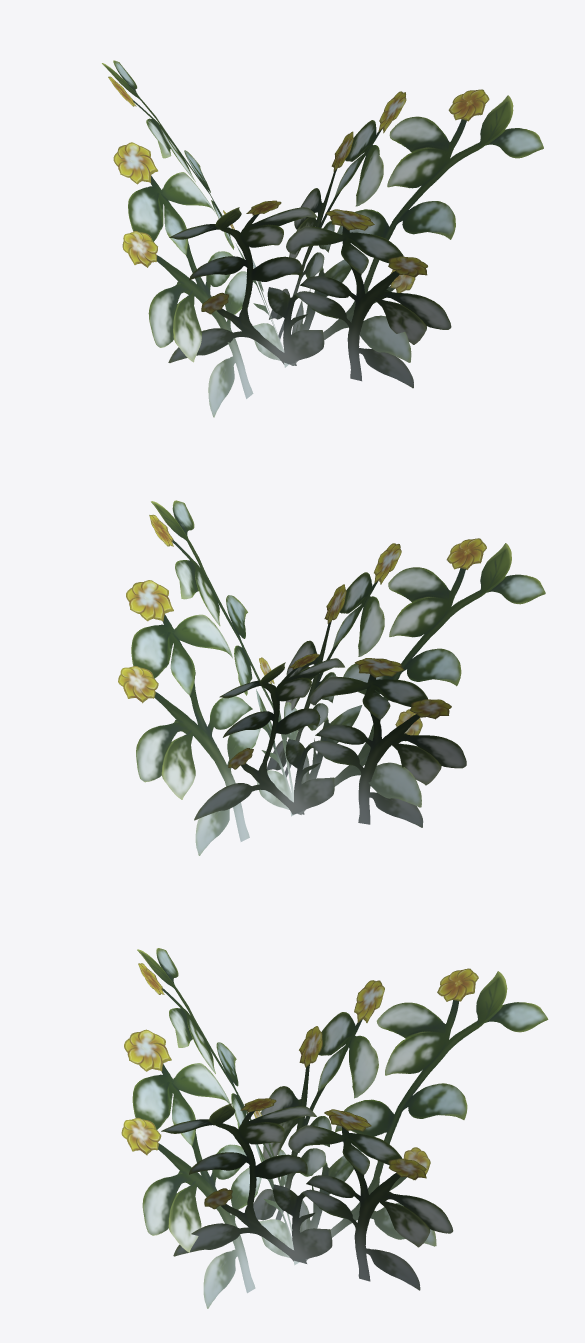
File: Grass_2_snow.FBX
3 views of the same model, one above another, from view 1: azimuth 30°, elevation 25°; view 2: azimuth 150°, elevation 25°; view 3: azimuth 270°, elevation 25° (orthographic). The views are drawn at different scales.
Parts seen in each view (by area): view 1: Grass_2_snow; view 2: Grass_2_snow; view 3: Grass_2_snow.
Part boxes in pixels (bbox=[...]): Grass_2_snow: bbox=[102, 60, 543, 417]; Grass_2_snow: bbox=[118, 500, 545, 855]; Grass_2_snow: bbox=[121, 948, 548, 1308].
Size of what is drawn, in the model's own units: 118 by 125 by 68.42.
